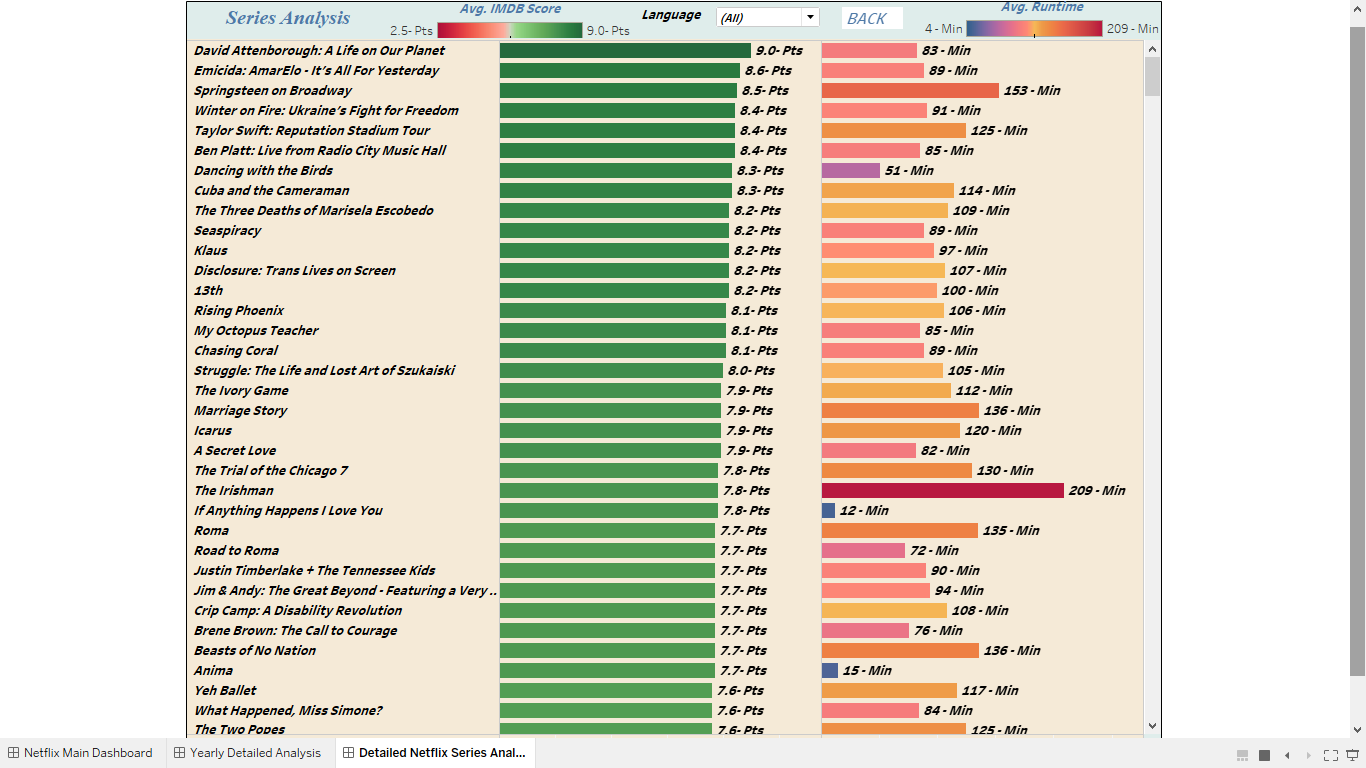

This screenshot's page, from the dashboard's own definition file:
{"tool":"tableau","page":{"name":"Detailed Netflix Series Analysis","canvas":[1000,800],"ordinal":0},"visuals":[{"type":"worksheet","title":"Series Analysis","mark":"Automatic","rows":["Title"],"cols":["IMDB Score","Runtime"],"box":[8,8,984,784]},{"type":"legend","title":"Series Analysis","param":"[federated.1tkxf2s0w3jj241b6hjhf0vak2dk].[avg:Runtime:qk]","box":[747,8,243,44]},{"type":"legend","title":"Series Analysis","param":"[federated.1tkxf2s0w3jj241b6hjhf0vak2dk].[avg:IMDB Score:qk]","box":[212,10,249,39]},{"type":"filter","title":"Series Analysis","param":"[federated.1tkxf2s0w3jj241b6hjhf0vak2dk].[none:Language:nk]","box":[467,15,182,35]},{"type":"worksheet","title":"Back","mark":"Automatic","box":[668,18,63,30]}]}

Visuals, with their boxes on the page's 1000x800 design canvas (x1, y1, x2, y2). These are canvas units, not pixel positions in the 1366x768 screenshot, which may show the page scaled, cropped or inside an application window:
"Series Analysis" worksheet: left=8, top=8, right=992, bottom=792
"Series Analysis" legend: left=747, top=8, right=990, bottom=52
"Series Analysis" legend: left=212, top=10, right=461, bottom=49
"Series Analysis" filter: left=467, top=15, right=649, bottom=50
"Back" worksheet: left=668, top=18, right=731, bottom=48
